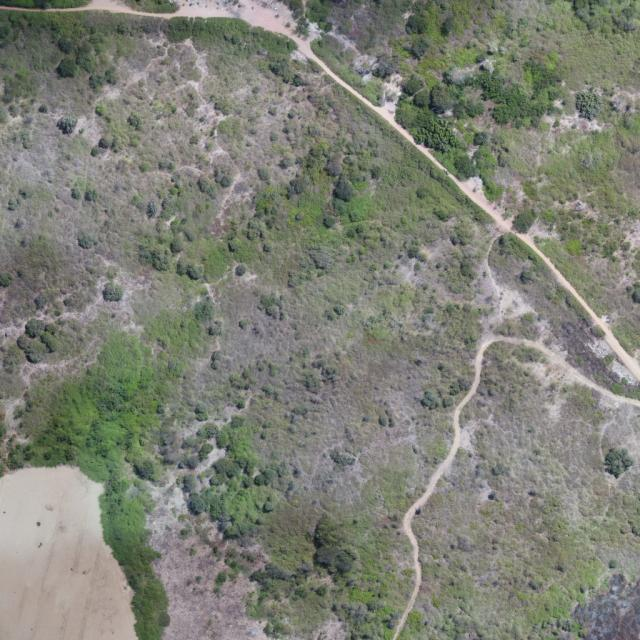dryland: (0, 466, 138, 639), (577, 575, 640, 640)
greenland: (0, 1, 90, 8)
unmetalled_road: (517, 226, 640, 384)
